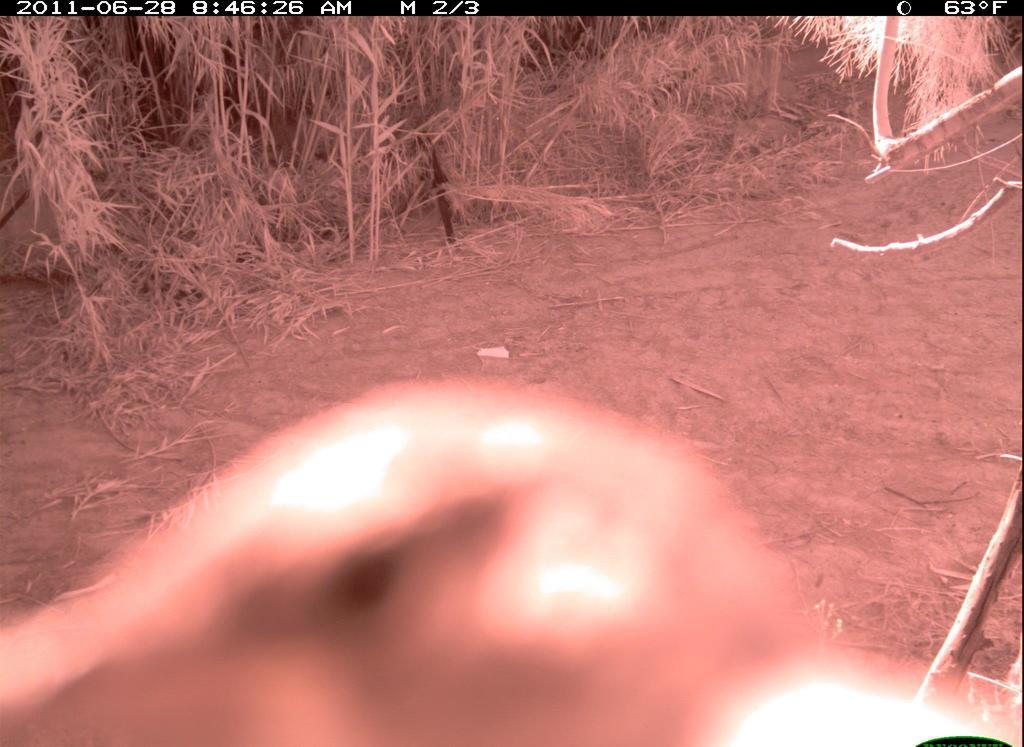bird: (2, 376, 991, 739)
